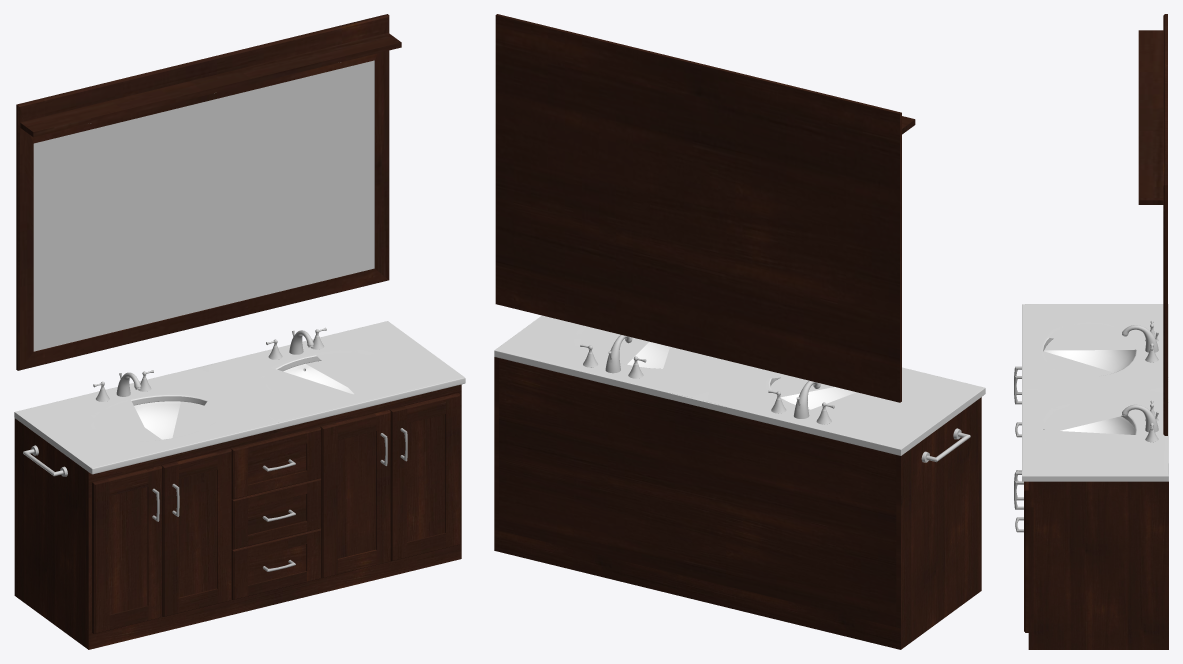
File: sh_scopia_double_vanity.glb
The picture shows the model from 3 angles, left to right: view 1: azimuth 30°, elevation 25°; view 2: azimuth 150°, elevation 25°; view 3: azimuth 270°, elevation 25°; orthographic projection. The views are drawn at different scales.
Bounding box in the file's own units: 1.85 × 2.25 × 0.681.
Materials: 7 (1 with a texture image).
